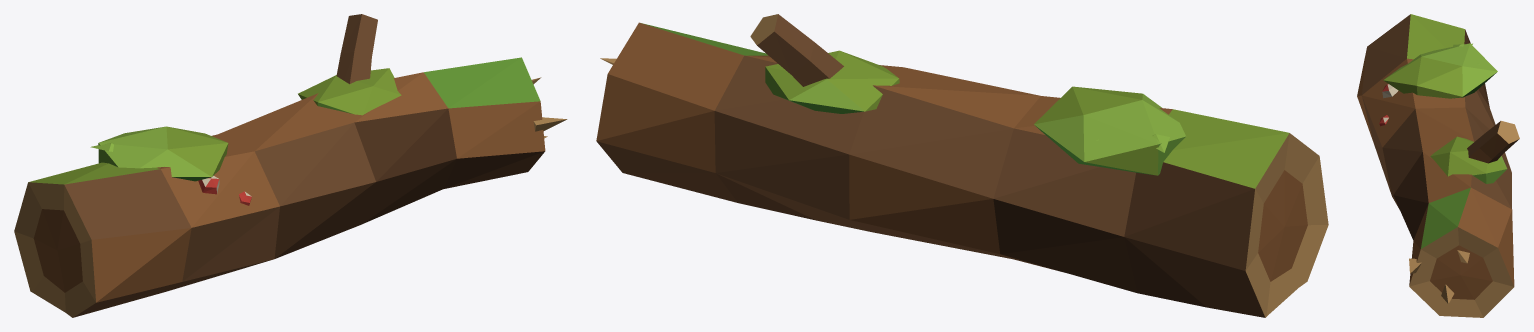
The model's file is log_fallen.glb.
3 renders of one model, left to right at view 1: azimuth 30°, elevation 25°; view 2: azimuth 150°, elevation 25°; view 3: azimuth 270°, elevation 25°, orthographic. The views are drawn at different scales.
Parts seen in each view (by area): view 1: log_fallen; view 2: log_fallen; view 3: log_fallen.
Boxes of the visible parts, x1,y1,x2,y2 form: log_fallen: [14, 14, 567, 317]; log_fallen: [596, 14, 1328, 317]; log_fallen: [1357, 14, 1519, 317].
Size of the model in its own units: 2.09 by 0.6595 by 0.6623.
